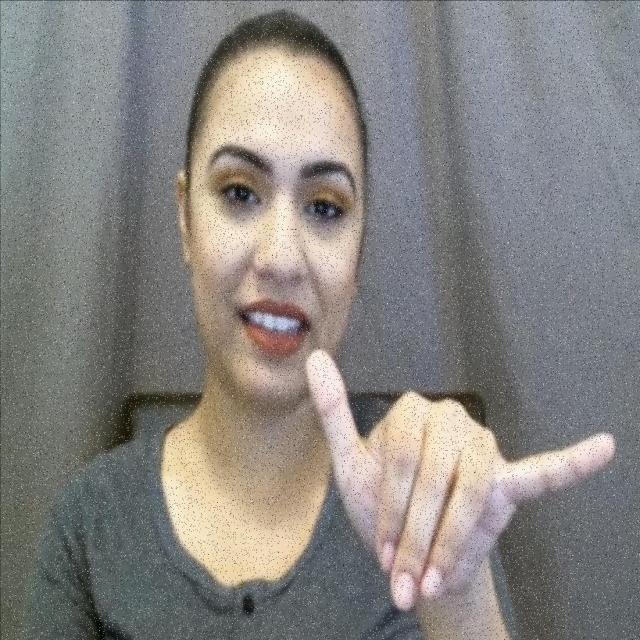Y: (302, 342, 619, 614)
